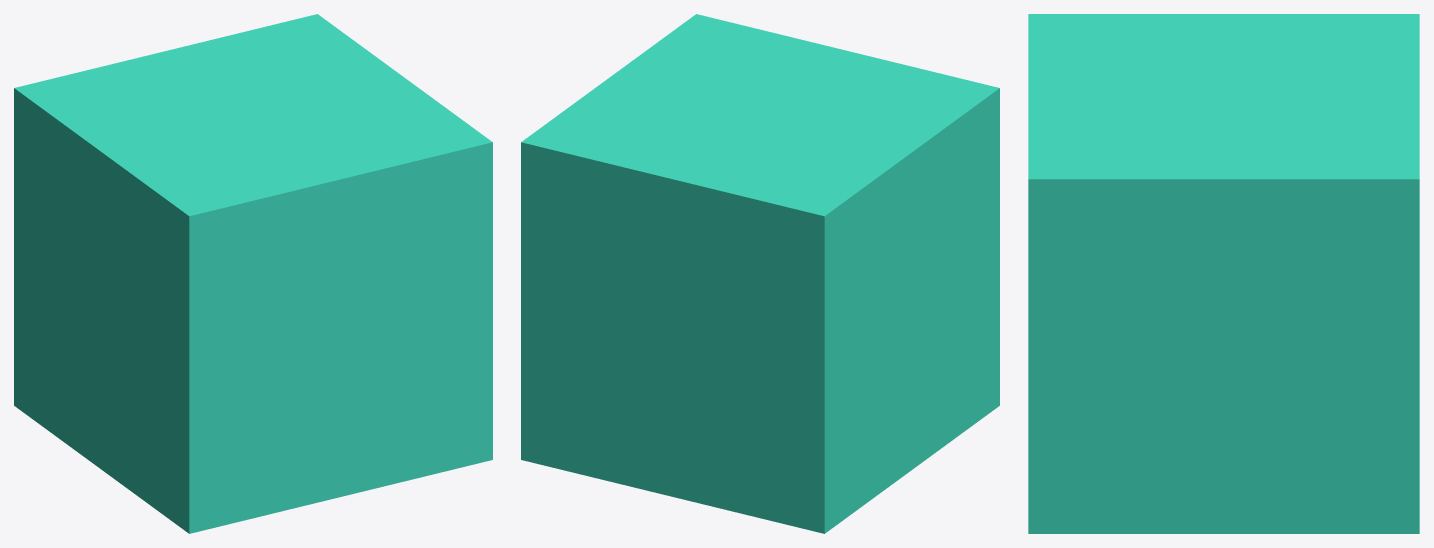
Rendered from CubeBlue.gltf.
3 renders of one model, left to right at view 1: azimuth 30°, elevation 25°; view 2: azimuth 150°, elevation 25°; view 3: azimuth 270°, elevation 25°, orthographic. The views are drawn at different scales.
Parts seen in each view (by area): view 1: Cube, Cylinder.001; view 2: Cube, Cylinder.001; view 3: Cube, Cylinder.001.
Boxes of the visible parts, x1,y1,x2,y2 form: Cube: (14, 14, 492, 533); Cylinder.001: (78, 41, 428, 189); Cube: (521, 14, 999, 533); Cylinder.001: (585, 41, 935, 189); Cube: (1028, 14, 1419, 533); Cylinder.001: (1028, 14, 1419, 179).
Bounding box in the file's own units: 2 × 2 × 2.
